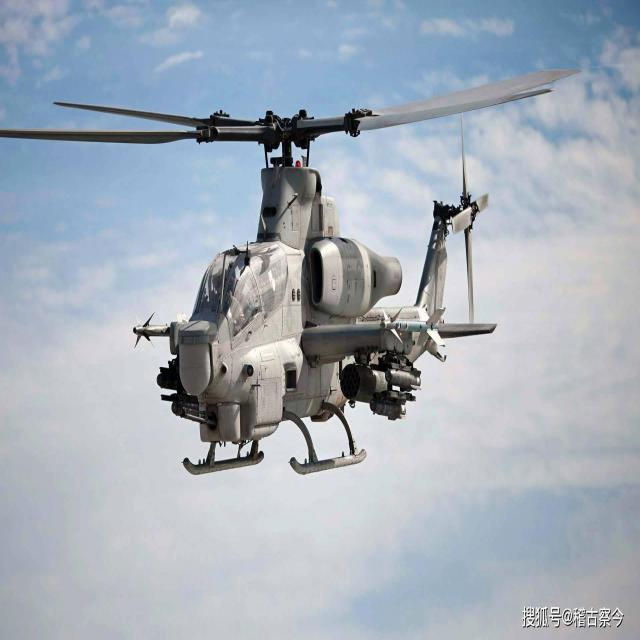MIL_HELO: (4, 73, 586, 482)
